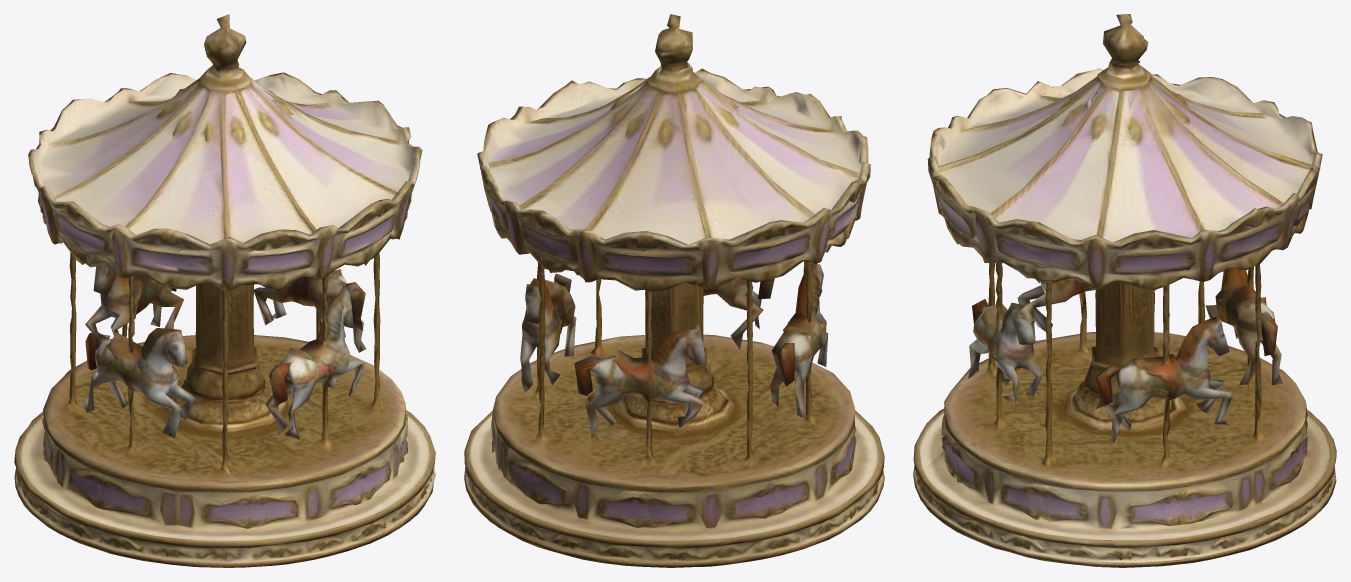
Rendered from deco_carousel.glb.
3 views of the same model, side by side, from view 1: azimuth 30°, elevation 25°; view 2: azimuth 150°, elevation 25°; view 3: azimuth 270°, elevation 25° (orthographic).
Visible parts, largest first — view 1: tripo_node_8eddfc07-2f40-4abe-8d33-b82cfcd78010; view 2: tripo_node_8eddfc07-2f40-4abe-8d33-b82cfcd78010; view 3: tripo_node_8eddfc07-2f40-4abe-8d33-b82cfcd78010.
Part boxes in pixels (<box>): tripo_node_8eddfc07-2f40-4abe-8d33-b82cfcd78010: <box>14,14,435,567</box>; tripo_node_8eddfc07-2f40-4abe-8d33-b82cfcd78010: <box>464,14,884,567</box>; tripo_node_8eddfc07-2f40-4abe-8d33-b82cfcd78010: <box>913,14,1336,567</box>.
Size of the model in its own units: 0.8218 by 1 by 0.8221.
Materials: 1 (1 with a texture image).
